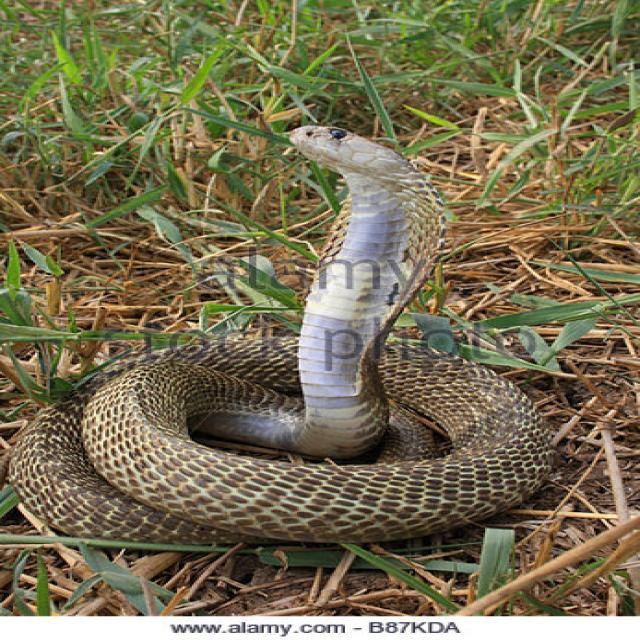Snake: (5, 121, 559, 546)
